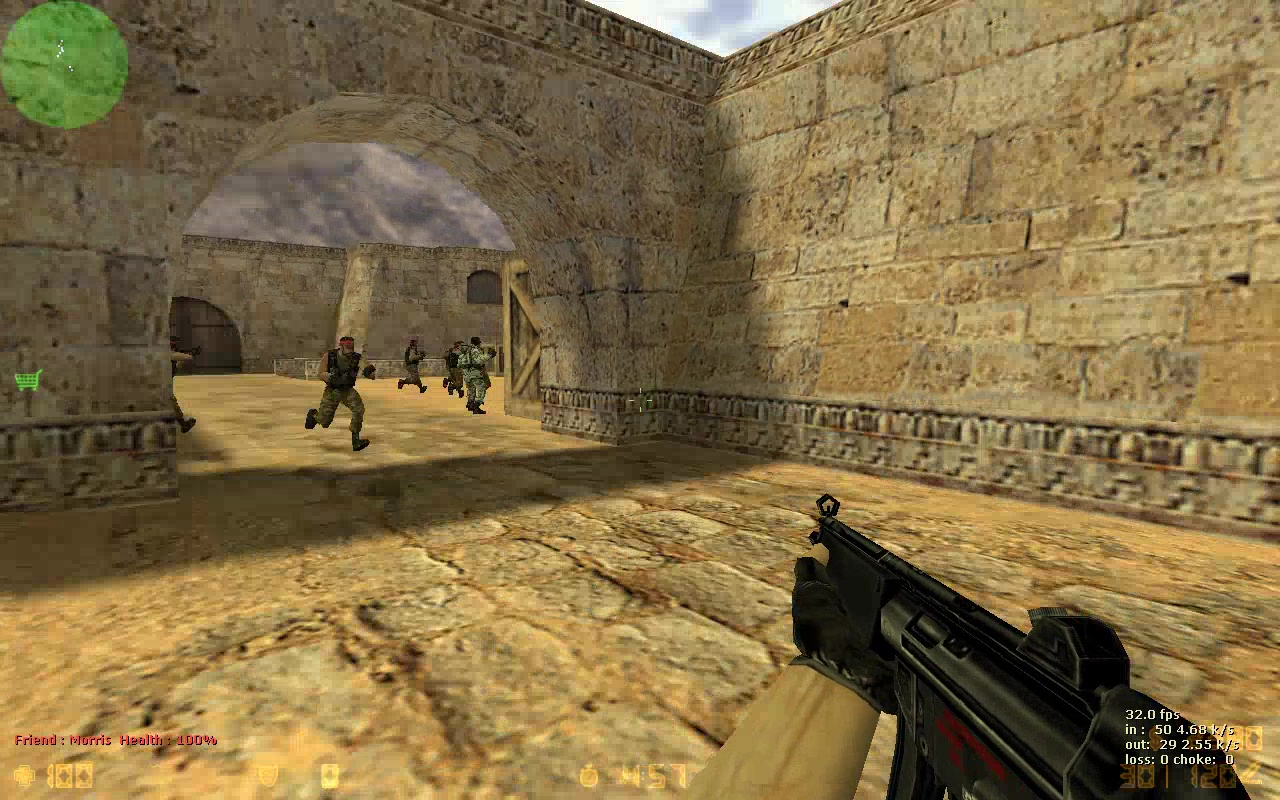terr1: (306, 334, 378, 453), (401, 339, 430, 392), (442, 343, 467, 399)
terr2: (459, 337, 494, 415)
